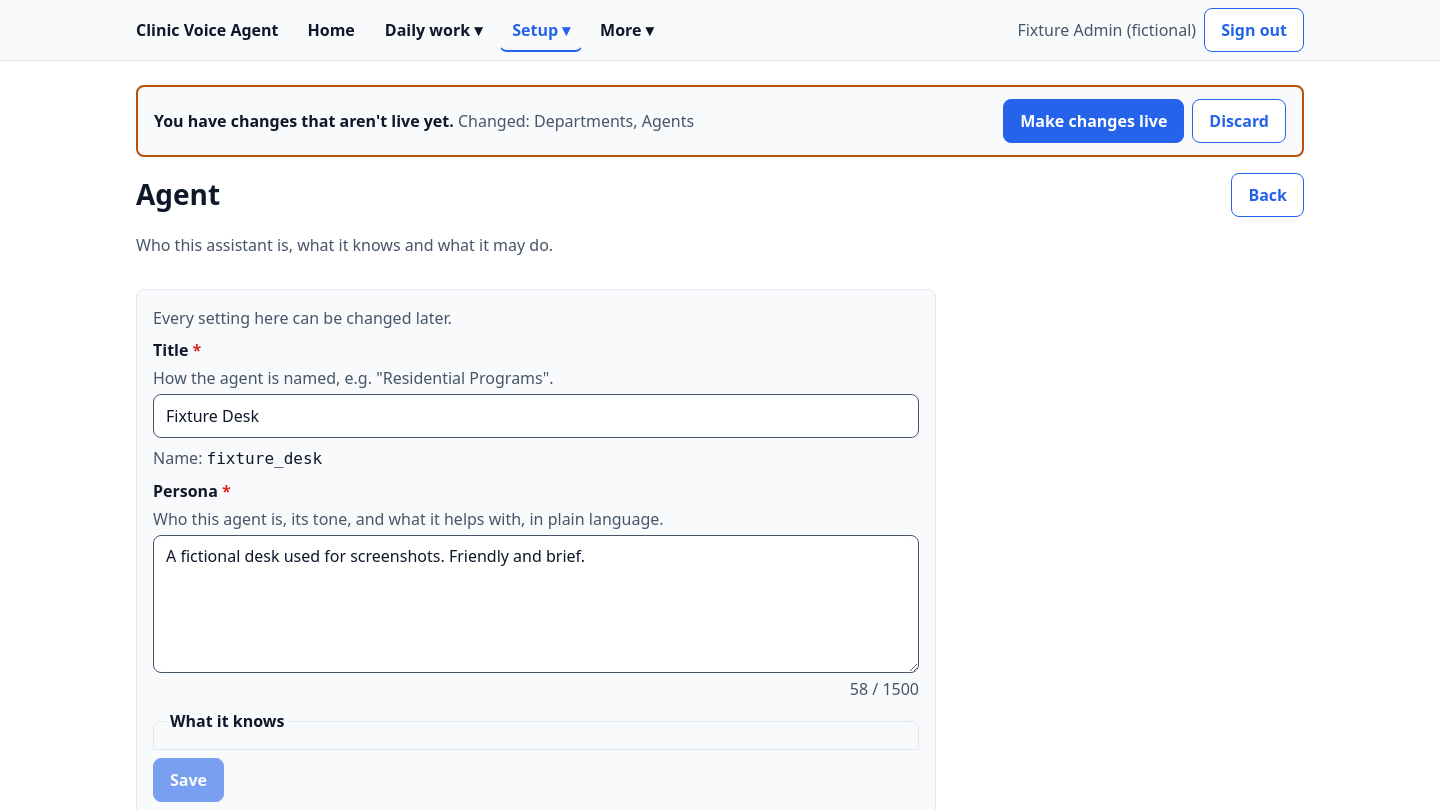
Test: T-FE: changes bar › waits for unsaved edits to be saved or cancelled
Expected: the button with test id "changes-make-live" is enabled, [1003, 99, 1184, 143]
Type " More." into the text box with test id "agent-persona" at (536, 604), box [153, 535, 919, 673]
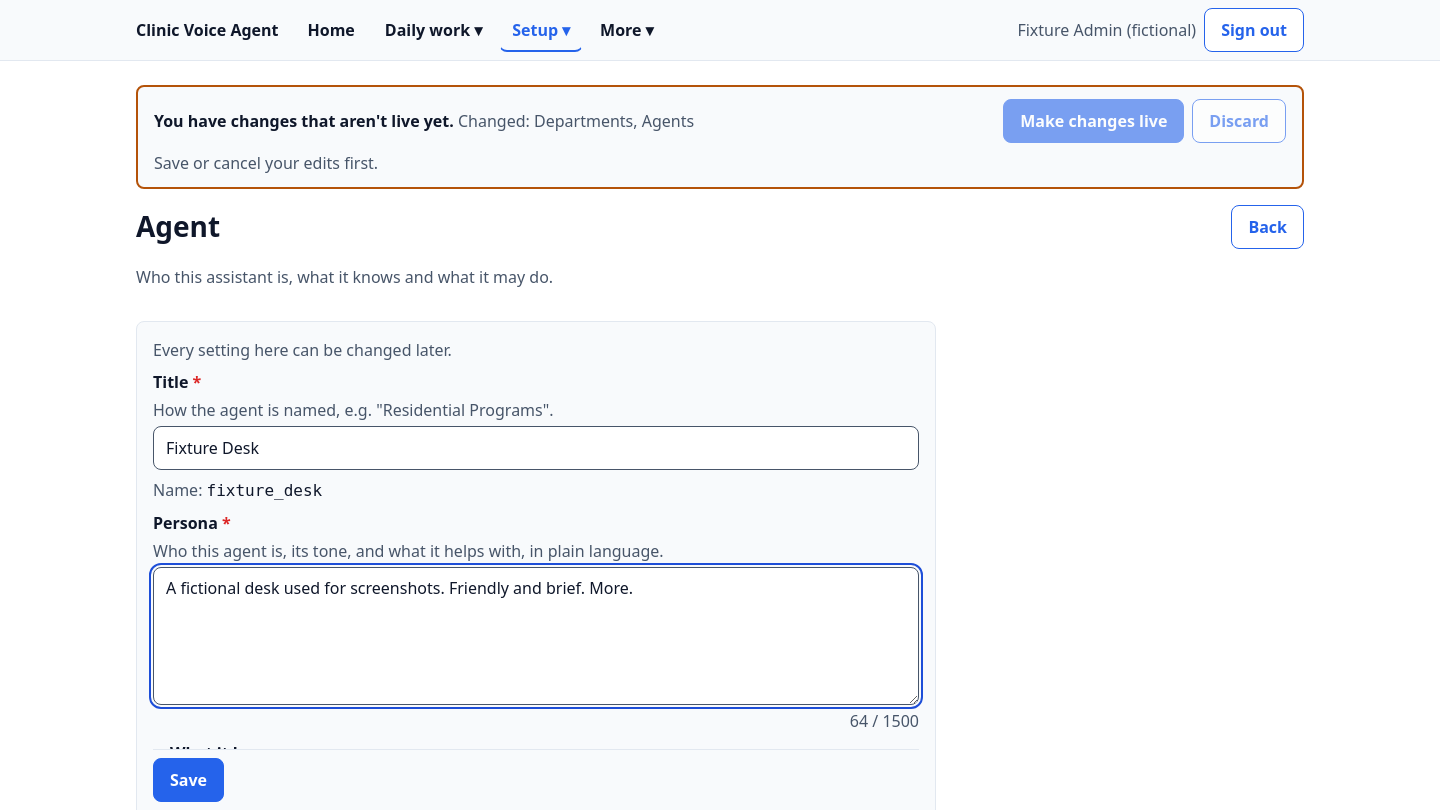
Expected: the button with test id "changes-make-live" is disabled, [1003, 99, 1184, 143]
Expected: the button with test id "changes-discard" is disabled, [1192, 99, 1286, 143]
Expected: the text with test id "changes-unsaved" reads "Save or cancel your edits first.", [154, 152, 378, 174]
